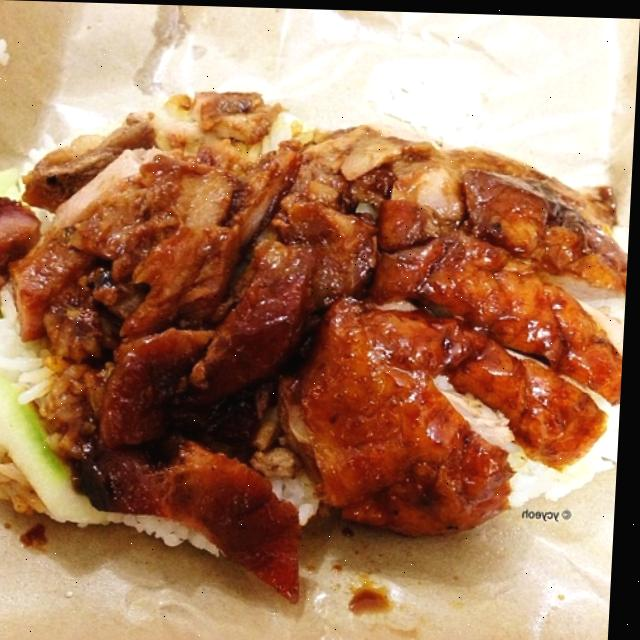米饭主食: (3, 46, 633, 606)
